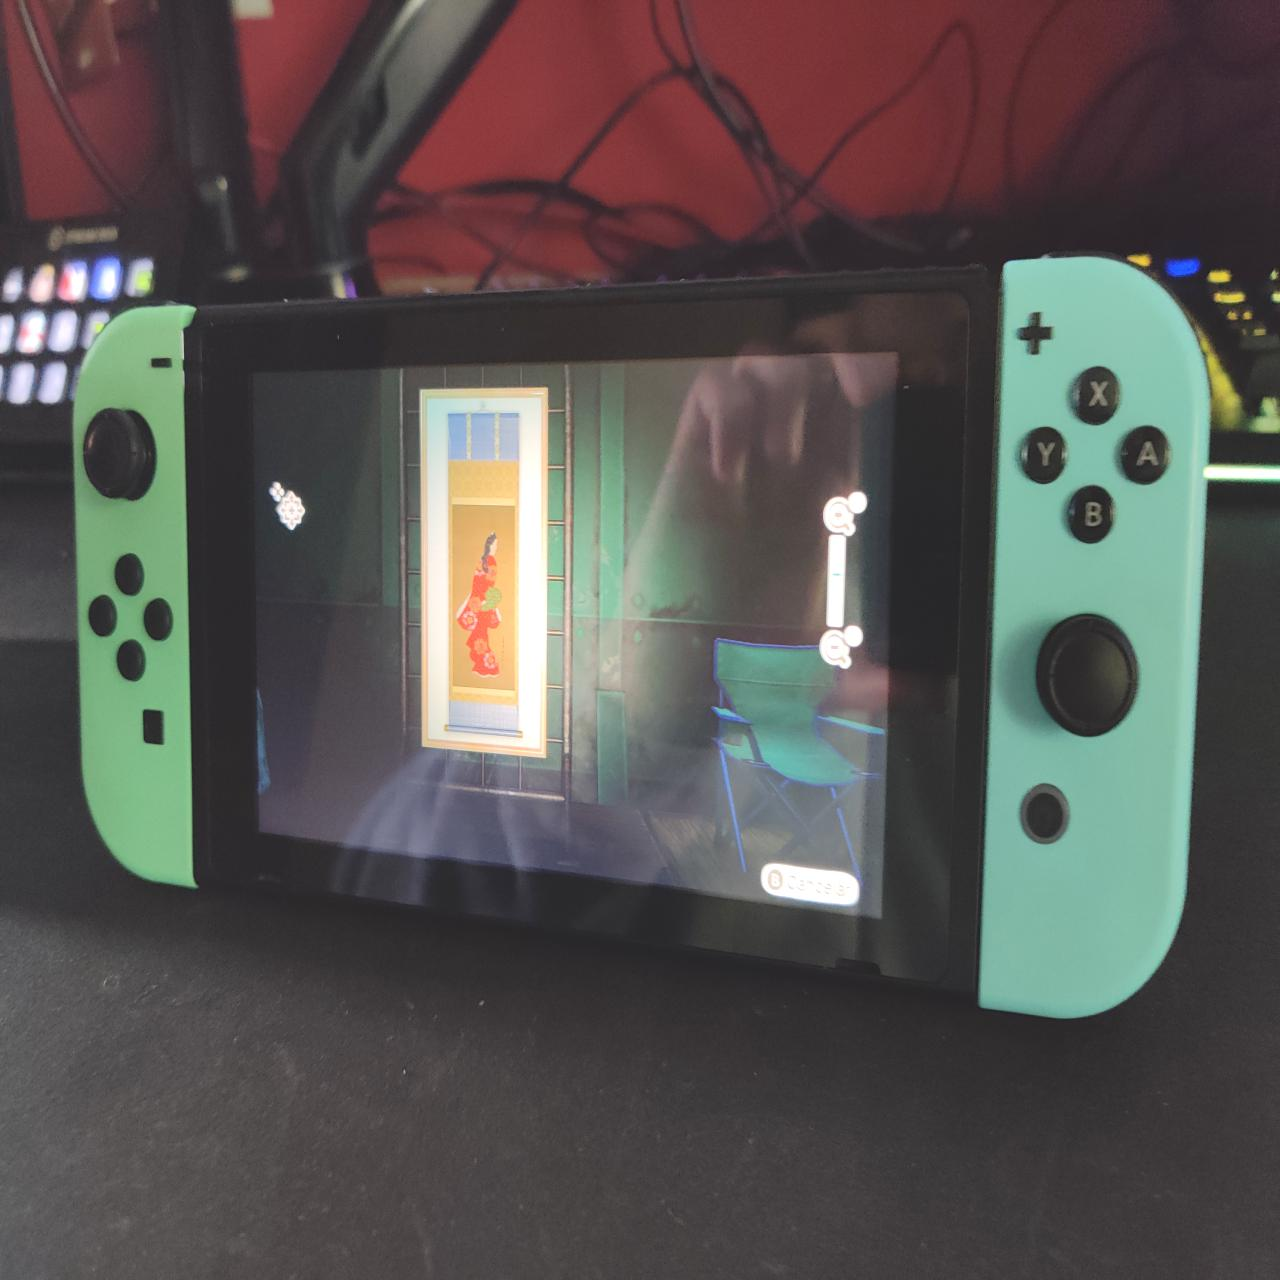MikaeriFake: (455, 498, 518, 697)
